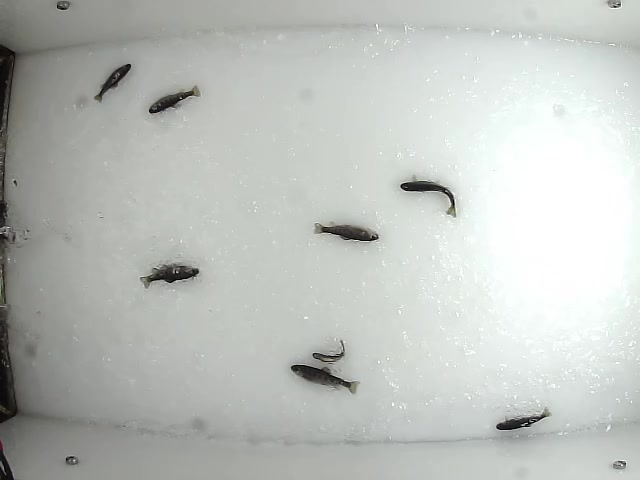fish: (399, 177, 459, 220), (289, 362, 361, 395), (145, 82, 203, 115), (137, 261, 201, 290), (89, 62, 132, 105), (312, 216, 381, 242), (492, 402, 553, 429), (309, 336, 346, 364)
